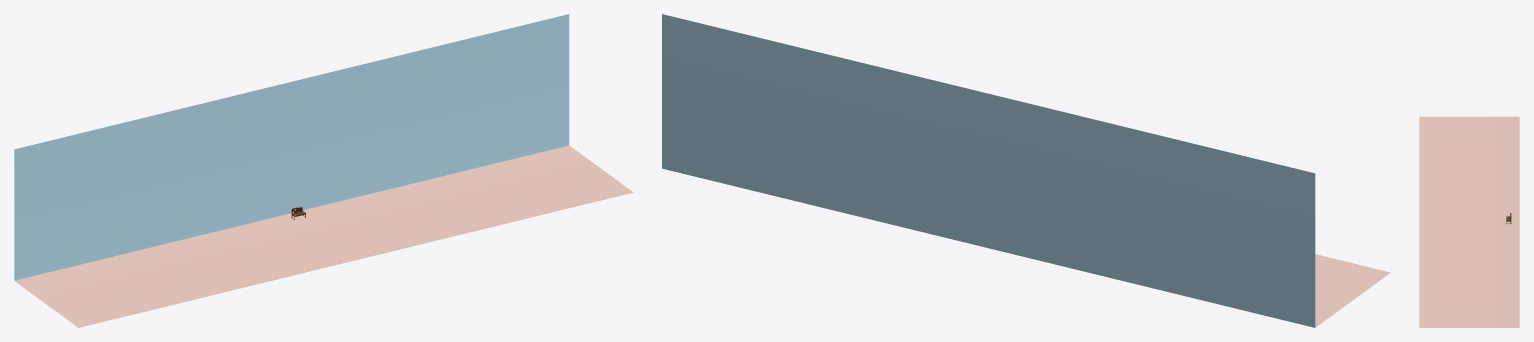
Rendered from desk.glb.
3 views of the same model, side by side, from view 1: azimuth 30°, elevation 25°; view 2: azimuth 150°, elevation 25°; view 3: azimuth 270°, elevation 25° (orthographic). The views are drawn at different scales.
Visible parts, largest first — view 1: Floor; view 2: Floor; view 3: Floor.
Boxes of the visible parts, x1=… form: Floor: x1=14, y1=14, x2=633, y2=327; Floor: x1=662, y1=14, x2=1390, y2=327; Floor: x1=1419, y1=116, x2=1519, y2=327.
Bounding box in the file's own units: 1285 × 291 × 258.
Materials: 4 (4 with a texture image).
